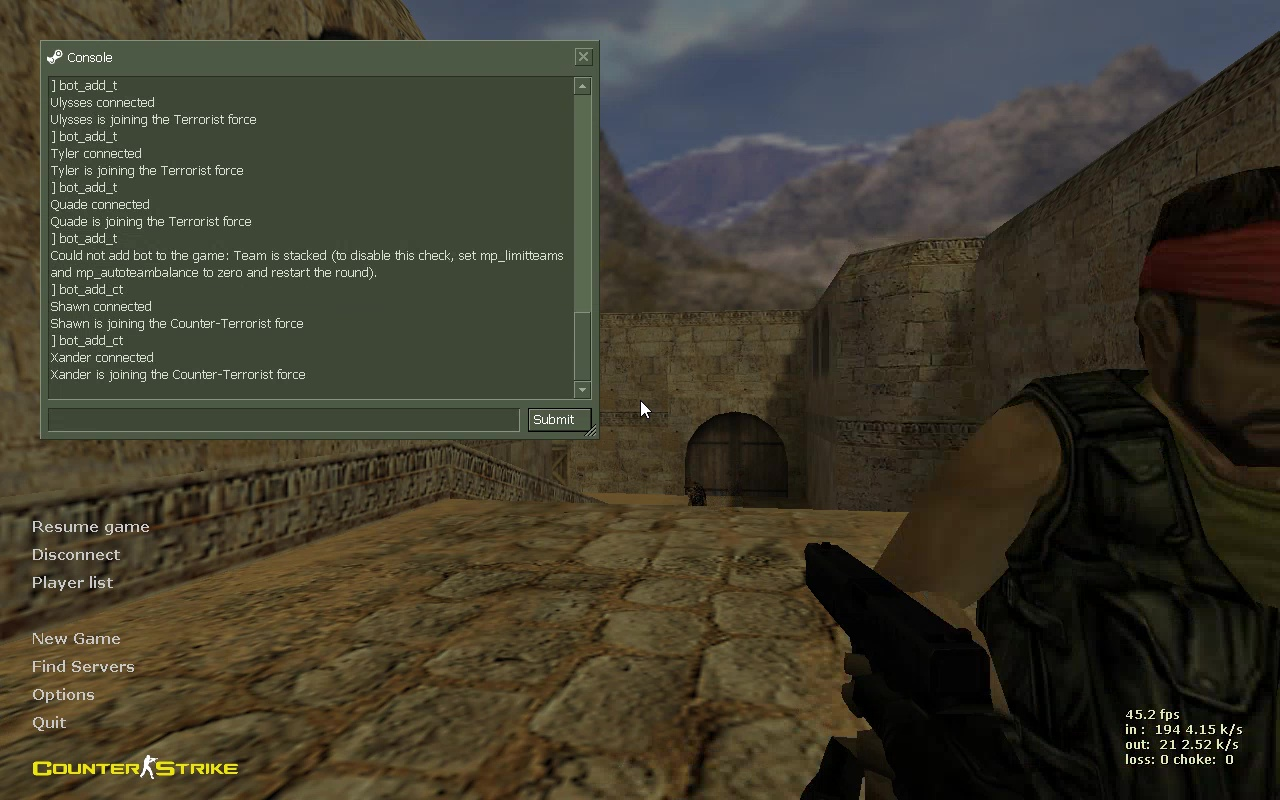terr1: (861, 174, 1278, 796), (688, 481, 706, 503)
